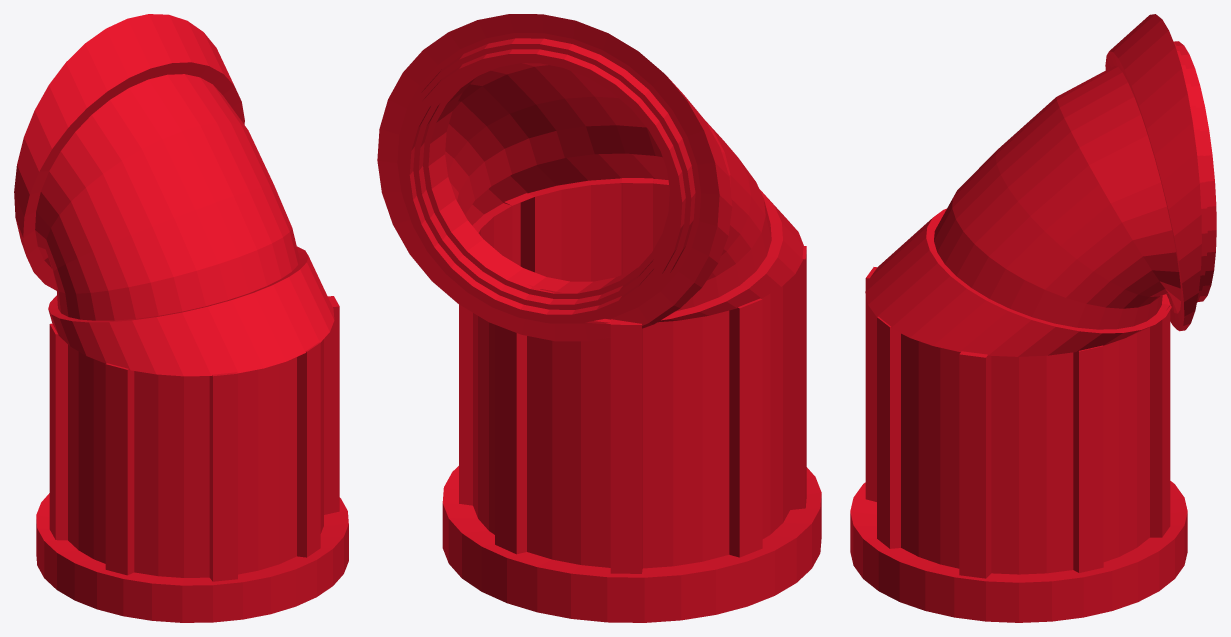
Rendered from PipeFunnel.fbx.
The picture shows the model from 3 angles, left to right: view 1: azimuth 30°, elevation 25°; view 2: azimuth 150°, elevation 25°; view 3: azimuth 270°, elevation 25°; orthographic projection. The views are drawn at different scales.
Visible parts, largest first — view 1: FunnelPipe; view 2: FunnelPipe; view 3: FunnelPipe.
Part boxes in pixels (bbox=[...]): FunnelPipe: bbox=[14, 14, 348, 622]; FunnelPipe: bbox=[377, 14, 821, 622]; FunnelPipe: bbox=[850, 14, 1216, 622].
Size of the model in its own units: 238 by 408 by 259.
